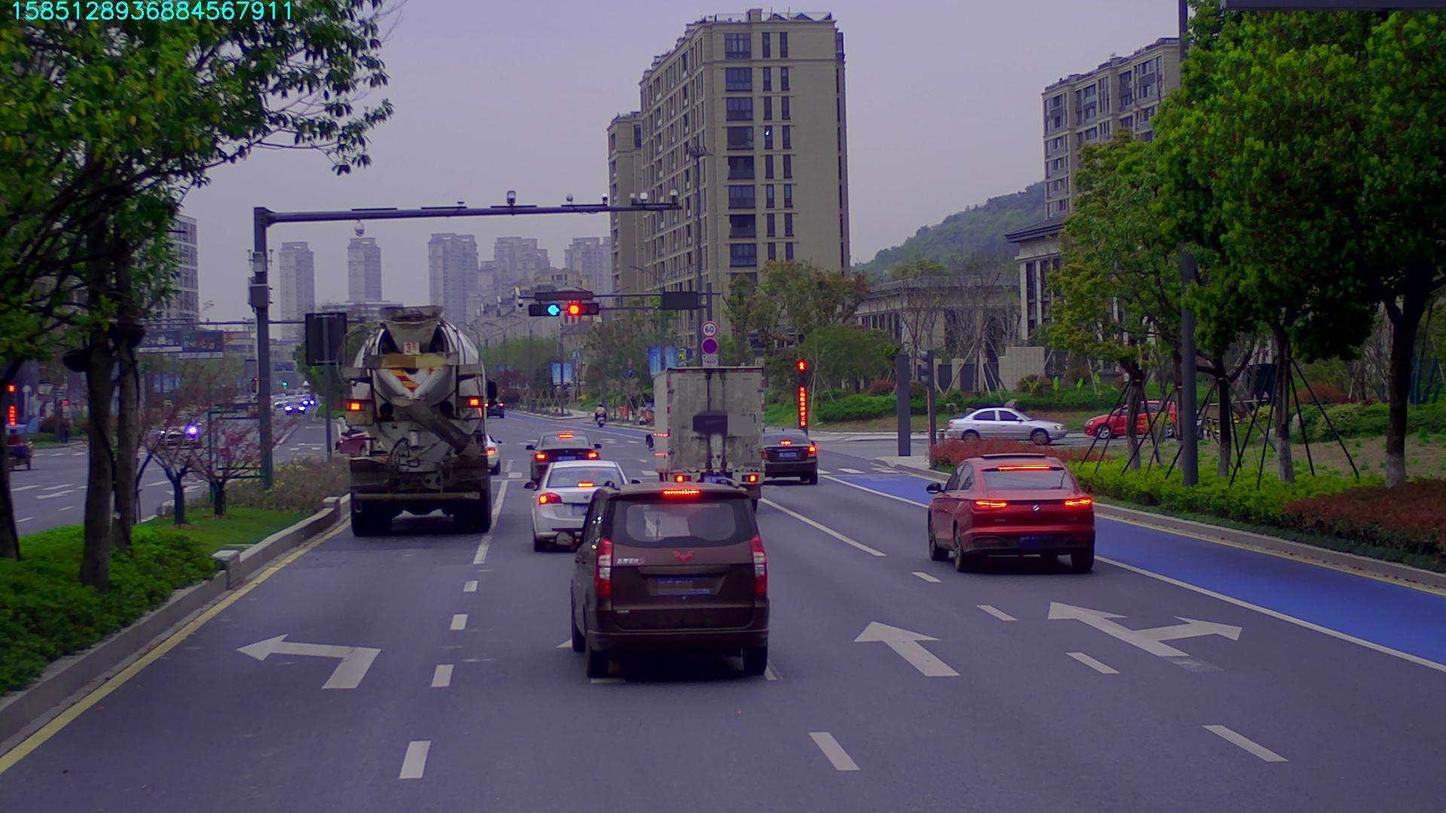green: (525, 303, 556, 318)
red: (571, 302, 599, 317)
